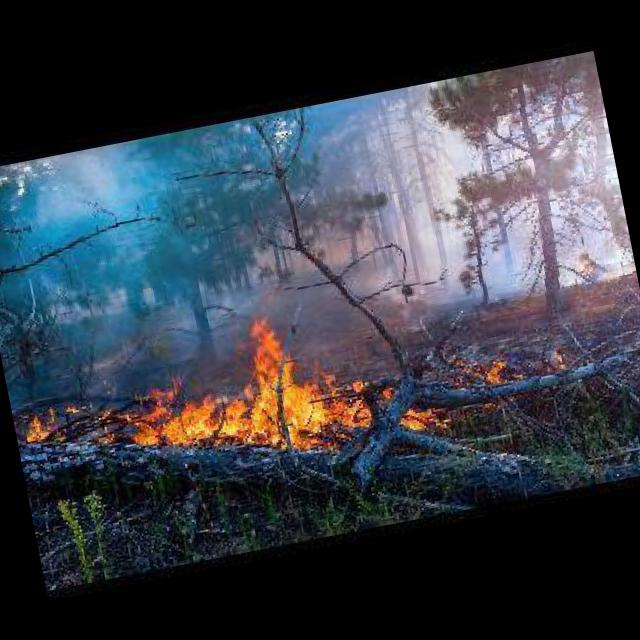Fire: (8, 241, 614, 533)
Smoke: (0, 86, 440, 348)
